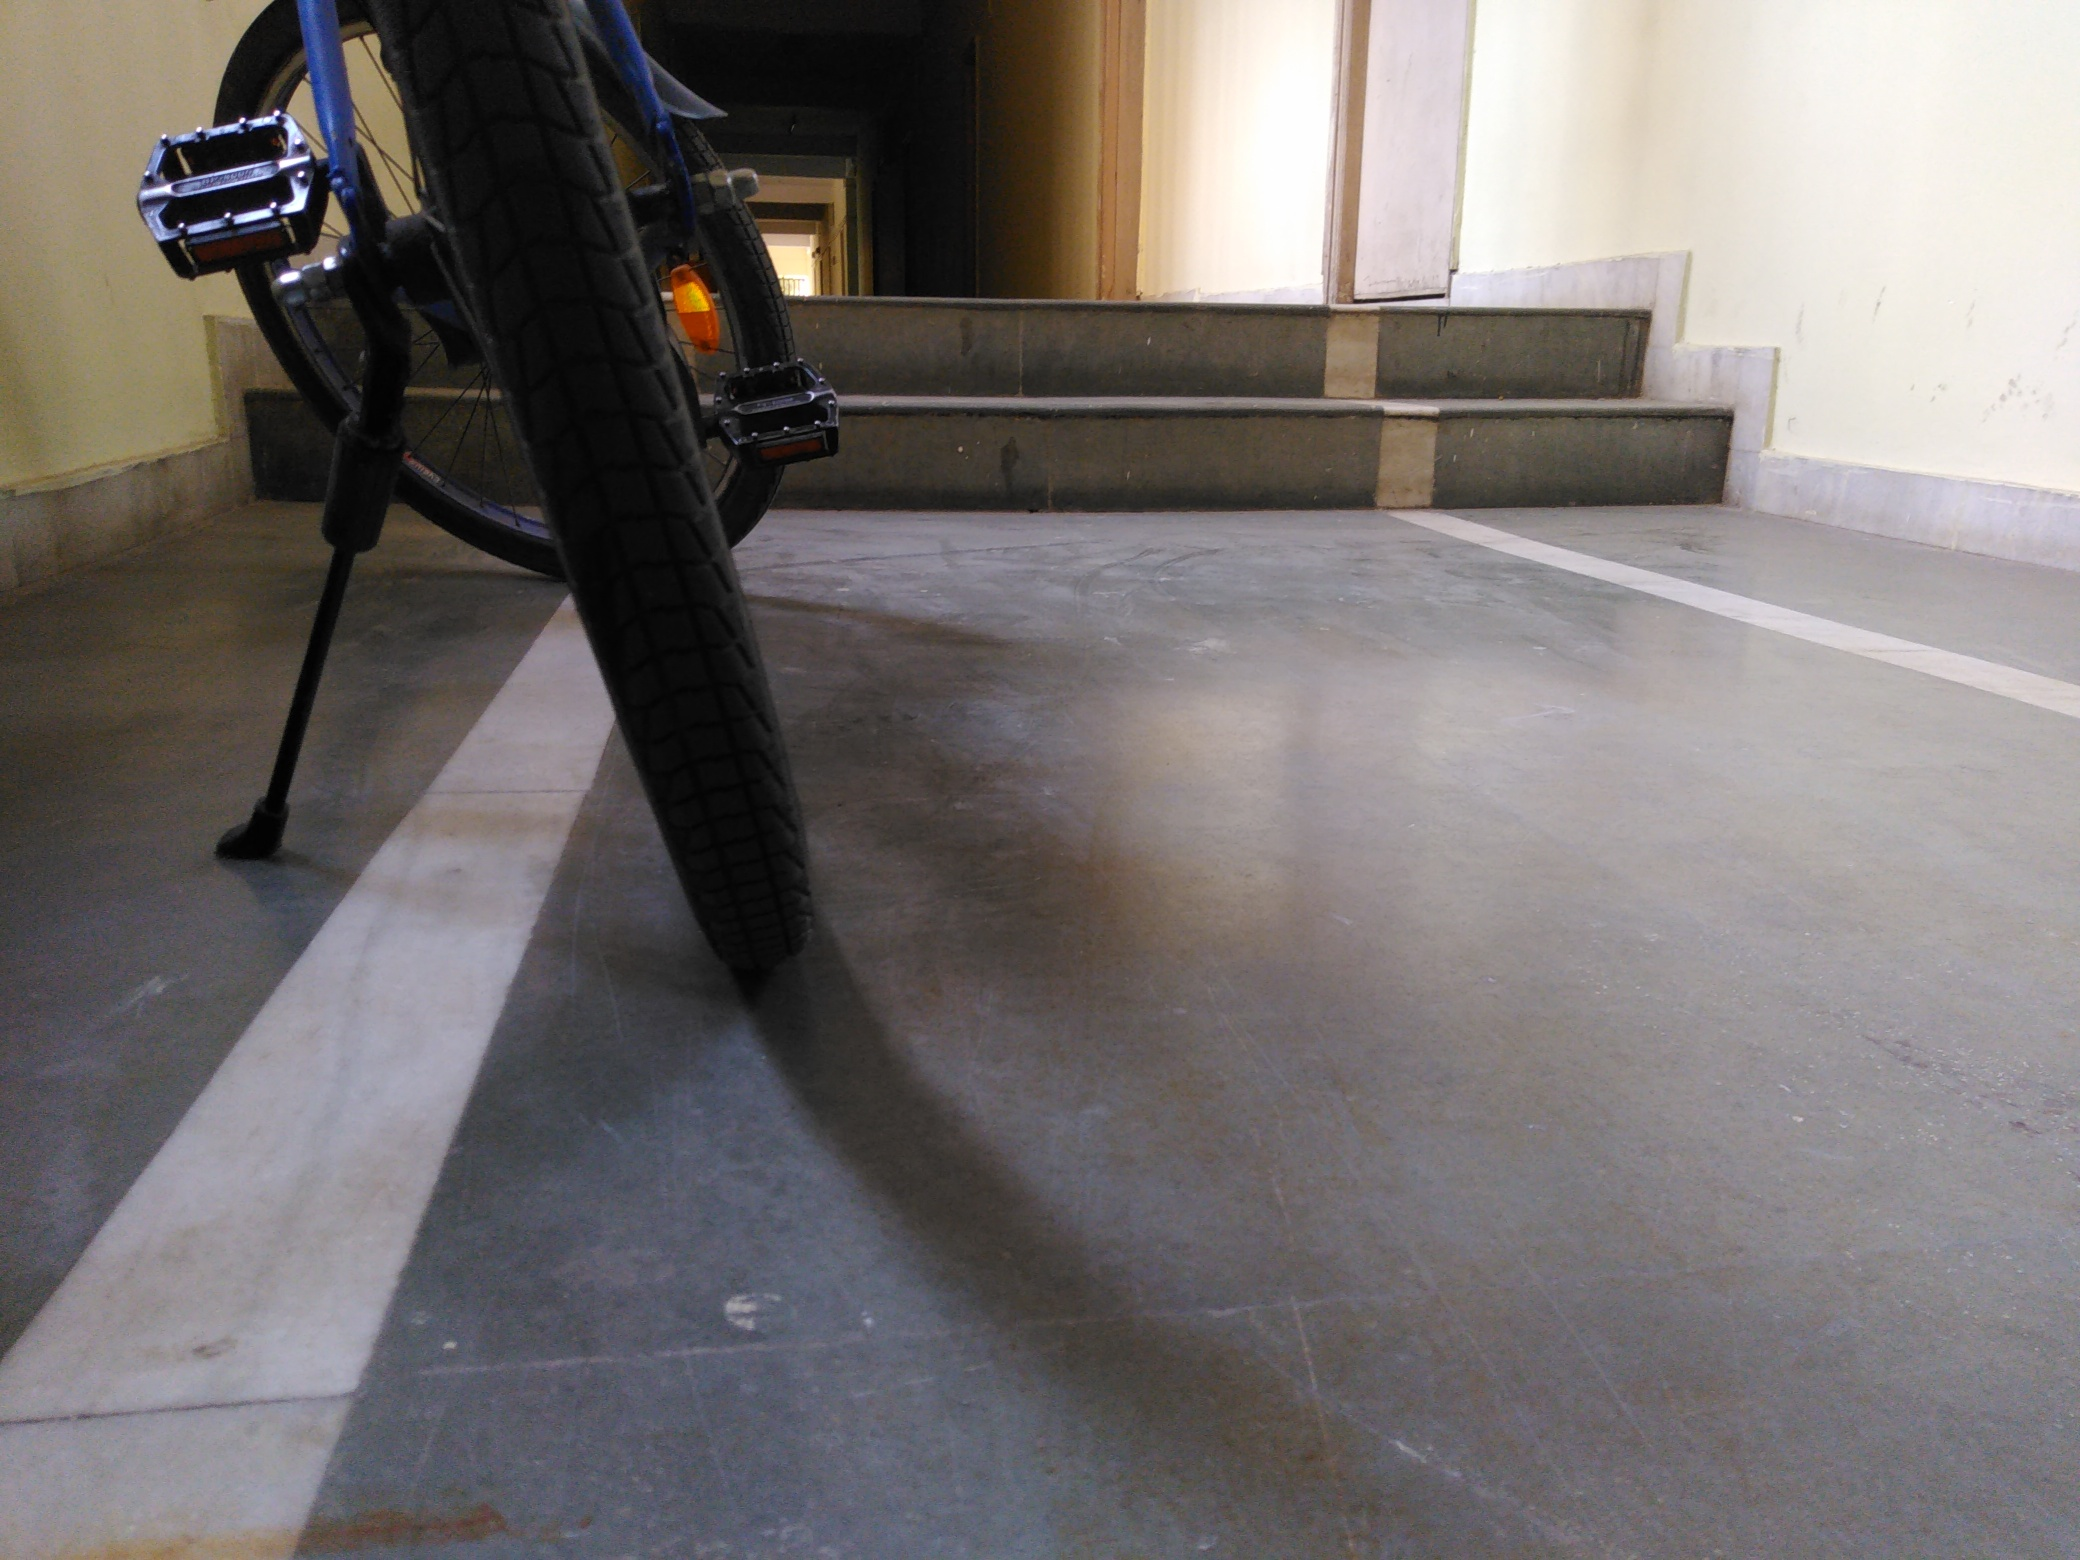stairs_up: (773, 292, 1748, 506)
